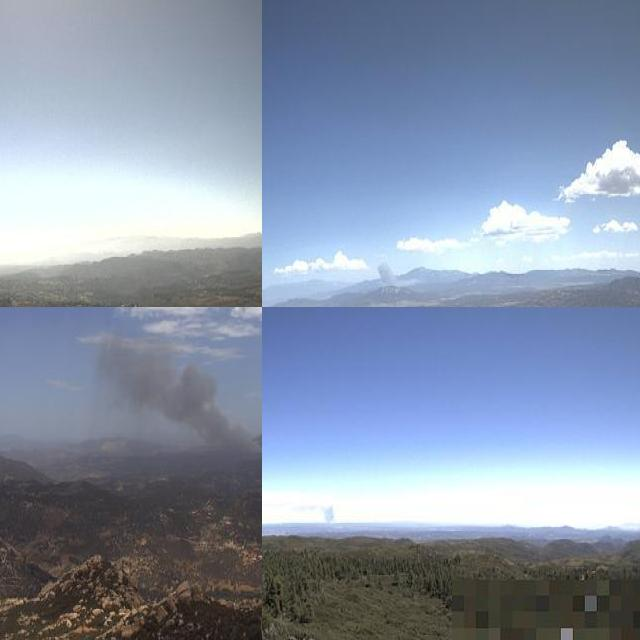smoke: (93, 313, 262, 469), (370, 258, 422, 287), (318, 502, 335, 526)
